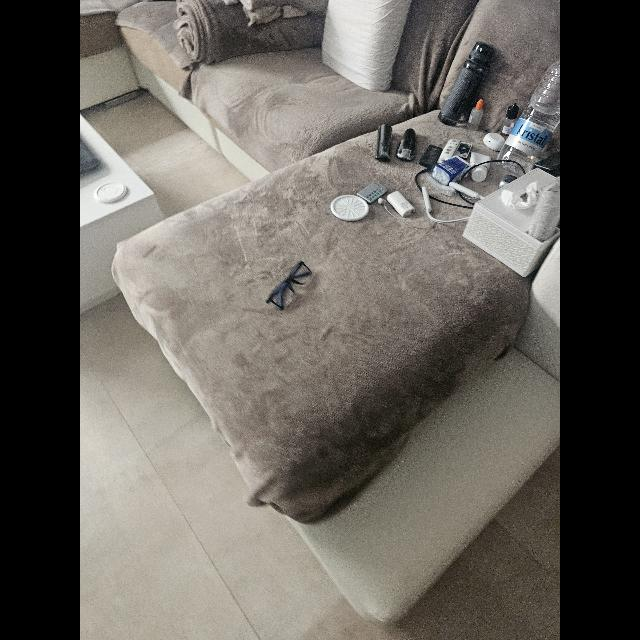glasses: (266, 260, 312, 310)
